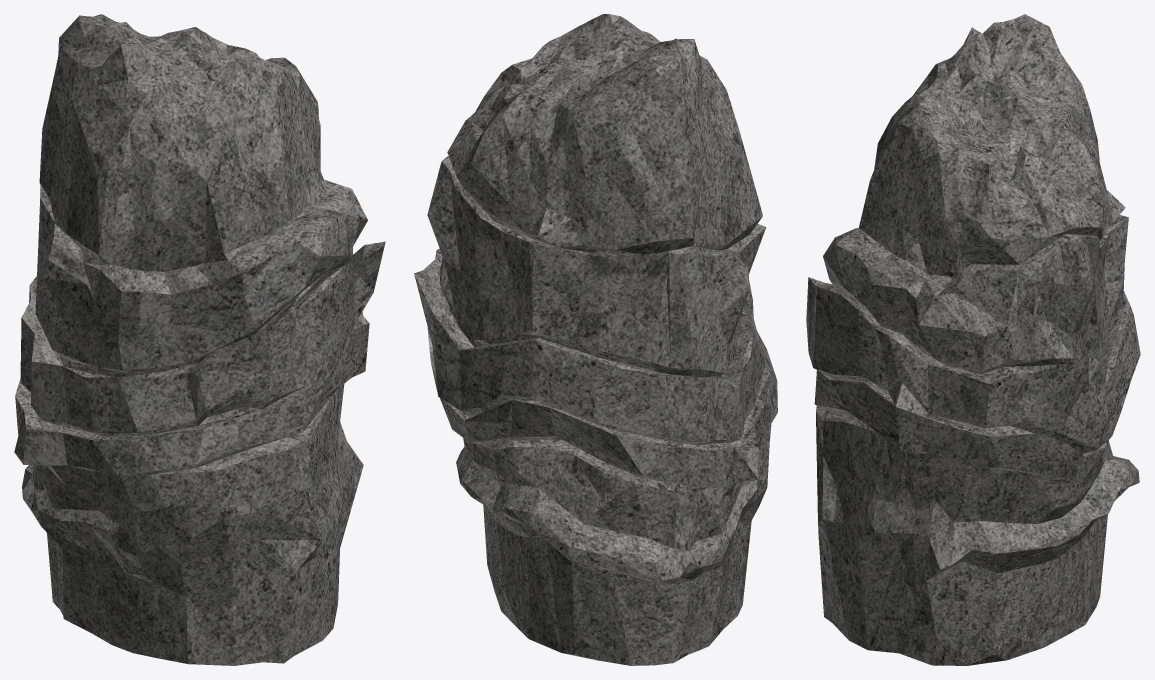
Rendered from roccia_grande_1.fbx.
The picture shows the model from 3 angles, left to right: view 1: azimuth 30°, elevation 25°; view 2: azimuth 150°, elevation 25°; view 3: azimuth 270°, elevation 25°; orthographic projection. The views are drawn at different scales.
Parts seen in each view (by area): view 1: big_rock_1; view 2: big_rock_1; view 3: big_rock_1.
Boxes of the visible parts, bbox=[...] form: big_rock_1: bbox=[14, 14, 385, 665]; big_rock_1: bbox=[414, 14, 777, 665]; big_rock_1: bbox=[806, 14, 1140, 665].
Bounding box in the file's own units: 239 × 407 × 220.
